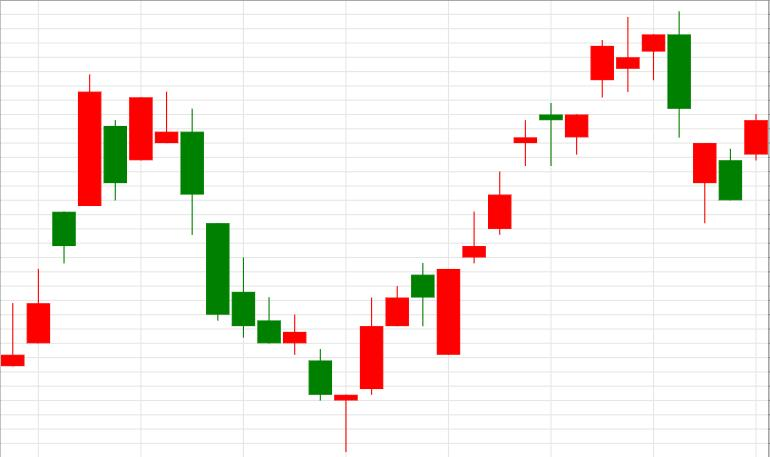bearish_engulfing_fall: (437, 10, 691, 355)
morning_star_rise: (181, 107, 383, 452)
